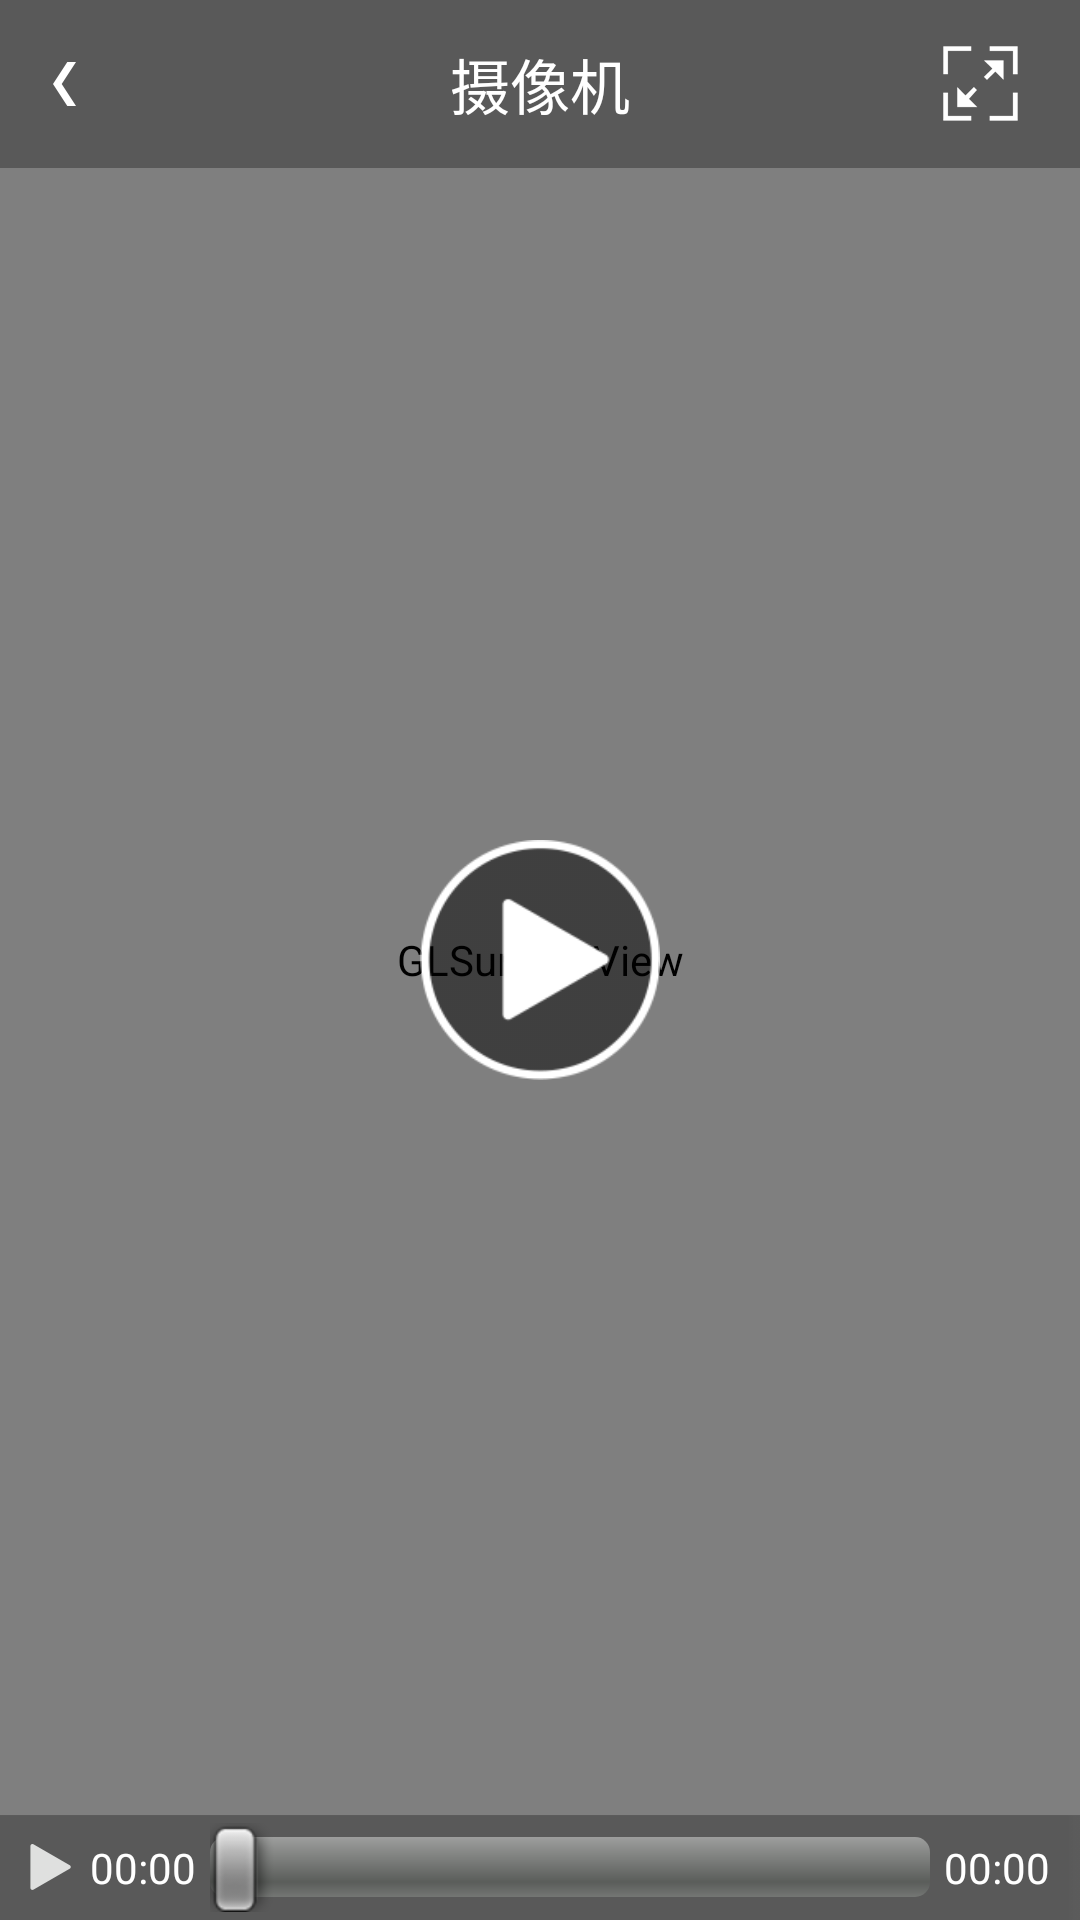

Icon bounding boxes for this 1080 x 1920 phone screenshot, format bbox(x1, y1, x2, y2):
play center: bbox(420, 840, 660, 1080)
